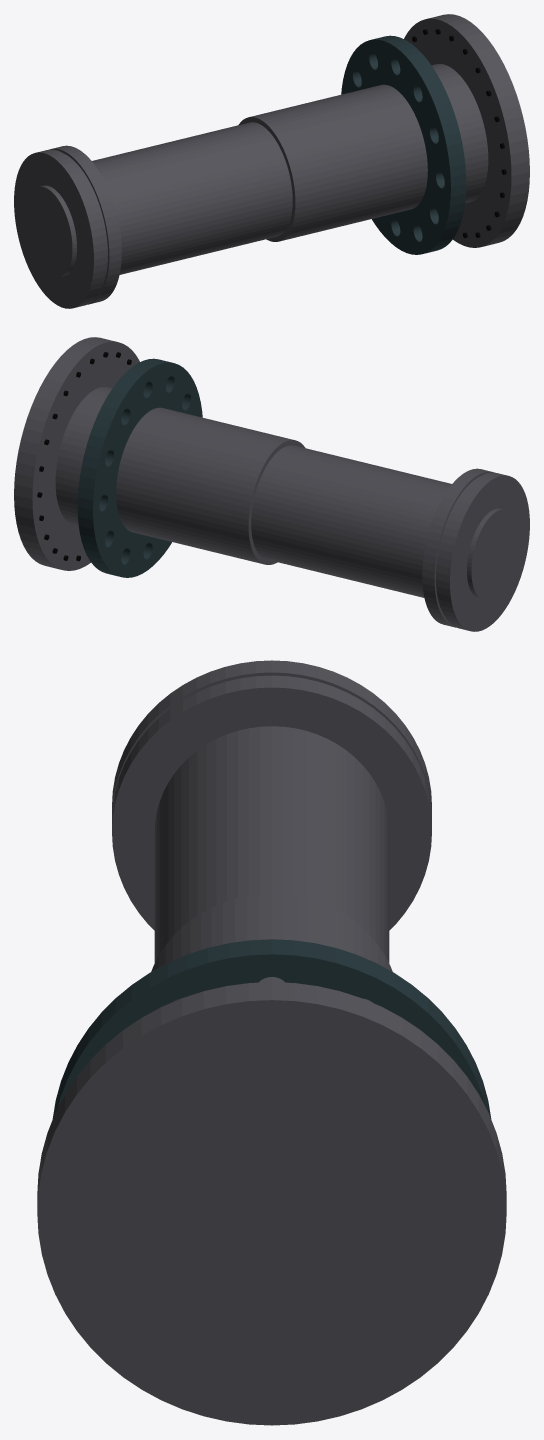
Rendered from main_shaft.obj.
3 views of the same model, one above another, from view 1: azimuth 30°, elevation 25°; view 2: azimuth 150°, elevation 25°; view 3: azimuth 270°, elevation 25° (orthographic). The views are drawn at different scales.
Visible parts, largest first — view 1: main_shaft; view 2: main_shaft; view 3: main_shaft.
Boxes of the visible parts, x1,y1,x2,y2 form: main_shaft: (14, 14, 529, 308); main_shaft: (14, 337, 529, 631); main_shaft: (37, 660, 506, 1425).
Bounding box in the file's own units: 2.74 × 1.32 × 1.32.
